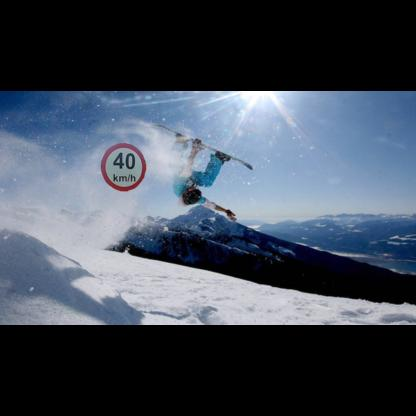R-19: (101, 142, 146, 191)
